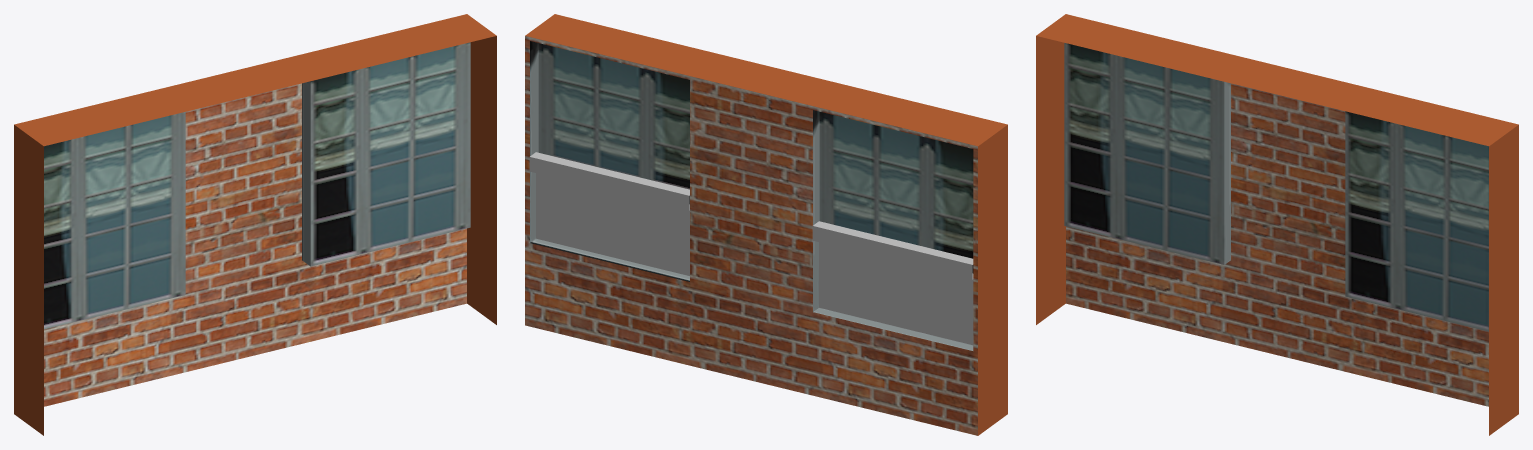
File: BackWall_Window.FBX
3 renders of one model, left to right at view 1: azimuth 30°, elevation 25°; view 2: azimuth 150°, elevation 25°; view 3: azimuth 330°, elevation 25°, orthographic.
Parts seen in each view (by area): view 1: Box013; view 2: Box013, Object017; view 3: Box013.
Boxes of the visible parts, bbox=[...] form: Box013: bbox=[14, 14, 496, 435]; Box013: bbox=[525, 14, 1007, 435]; Object017: bbox=[529, 152, 973, 345]; Box013: bbox=[1036, 14, 1518, 435].
Size of the model in its own units: 121 by 73.64 by 13.93.
